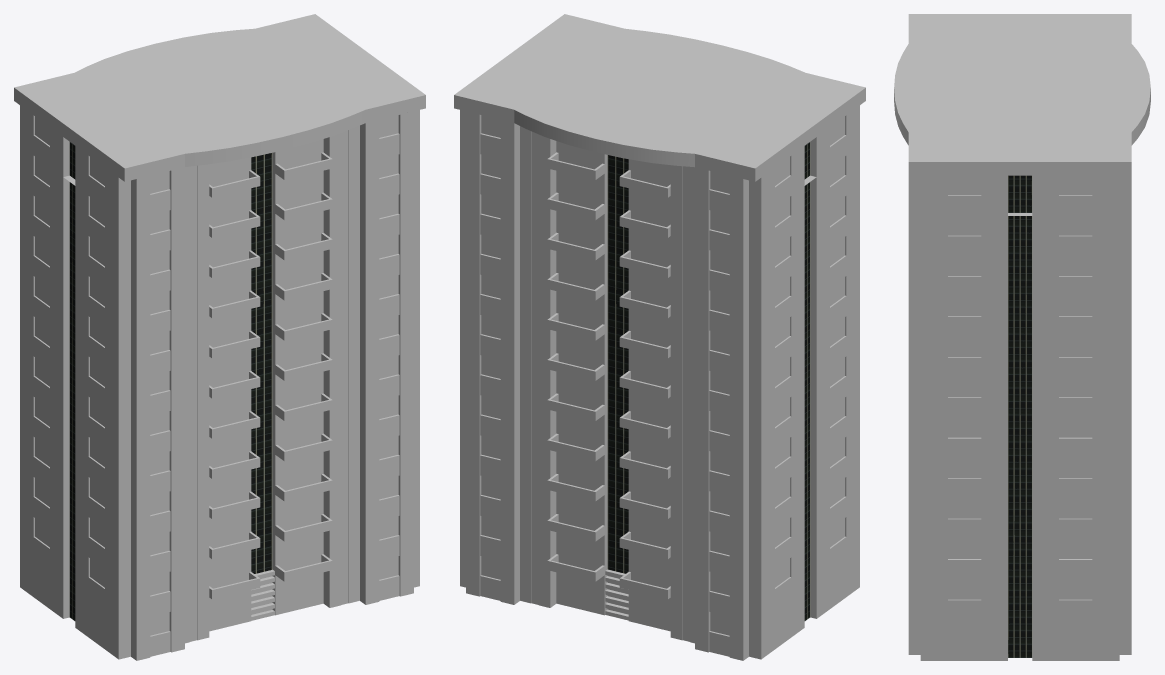
3 renders of one model, left to right at view 1: azimuth 30°, elevation 25°; view 2: azimuth 150°, elevation 25°; view 3: azimuth 270°, elevation 25°, orthographic.
Visible parts, largest first — view 1: BR-023; view 2: BR-023; view 3: BR-023.
Part boxes in pixels (x1,y1,x2,y2): BR-023: (14, 14, 425, 660); BR-023: (454, 14, 865, 660); BR-023: (894, 14, 1150, 660).
Size of what is drawn, in the model's own units: 23.55 by 37 by 17.26.
